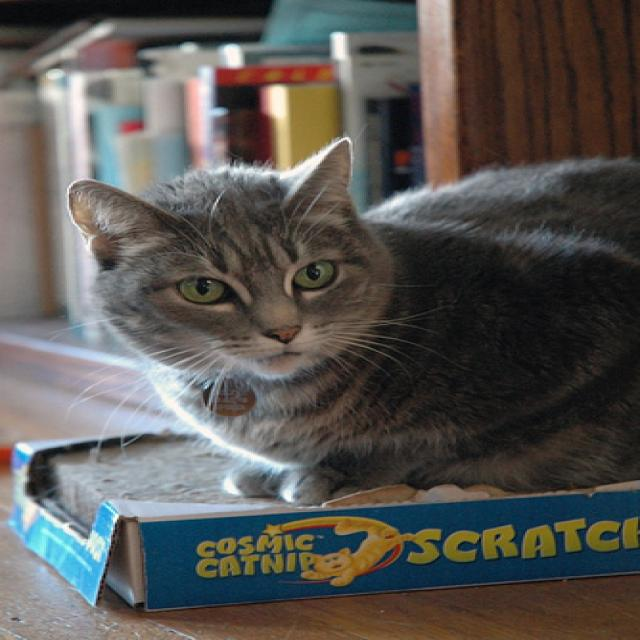cat: (62, 136, 639, 507)
